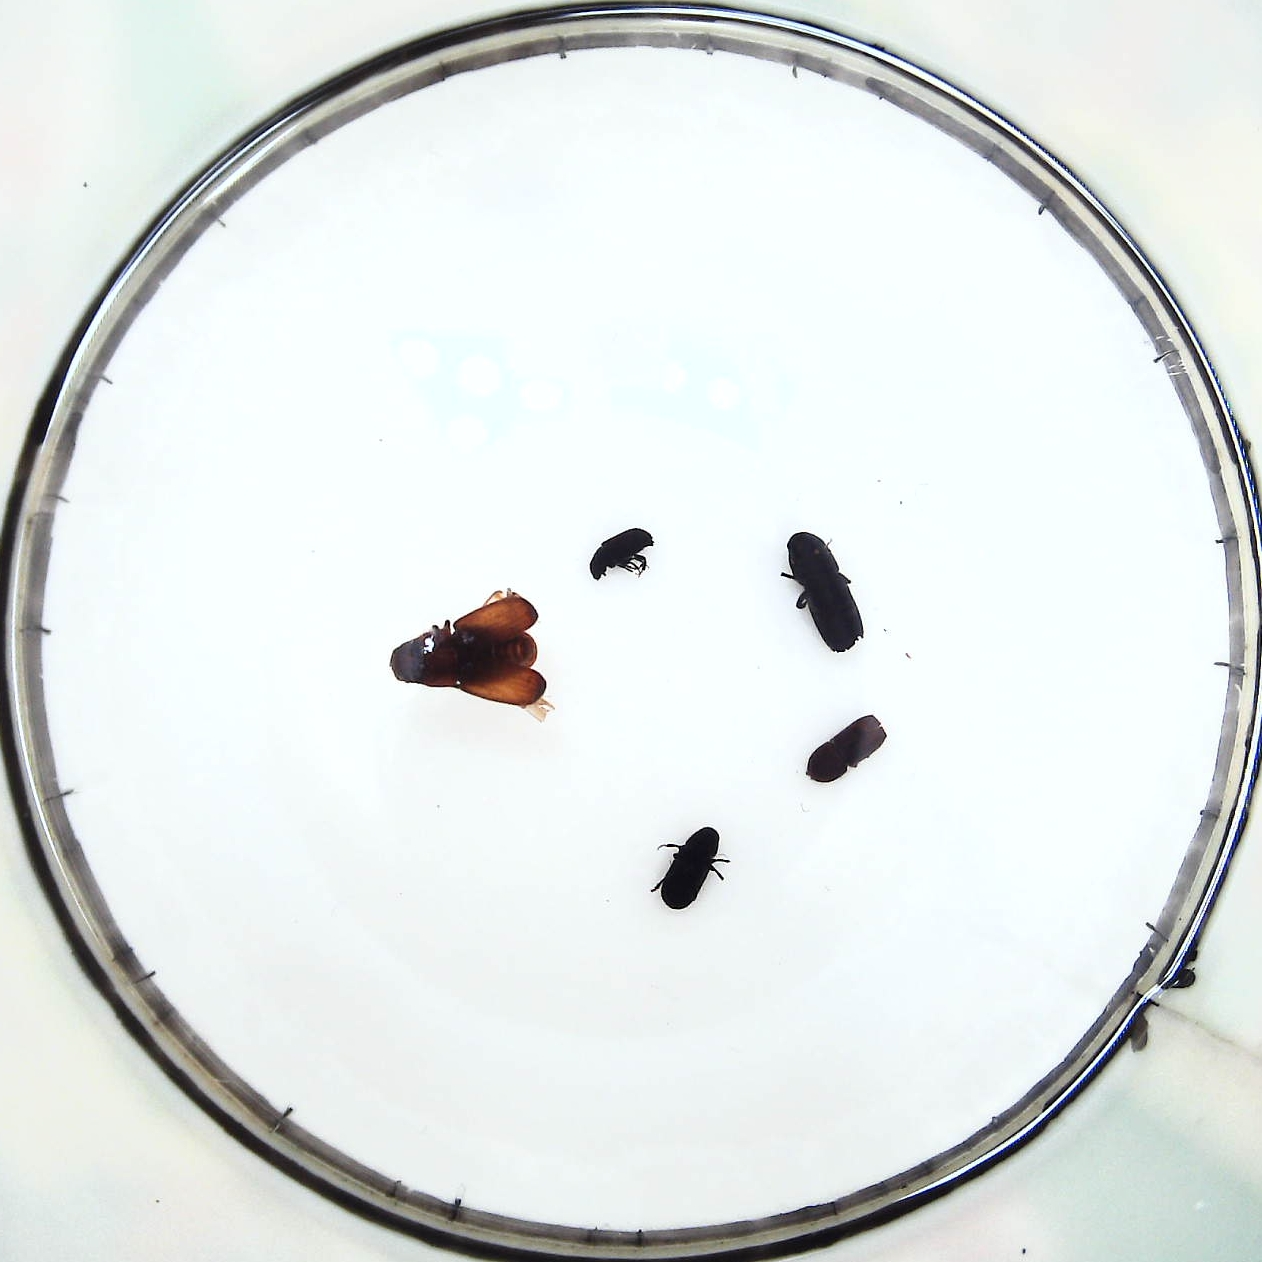Boerner: (784, 521, 869, 656)
Leconte: (396, 594, 542, 706)
Linnaeus: (812, 713, 886, 789)
armandi: (659, 826, 723, 911)
coleoptera: (584, 524, 656, 579)
